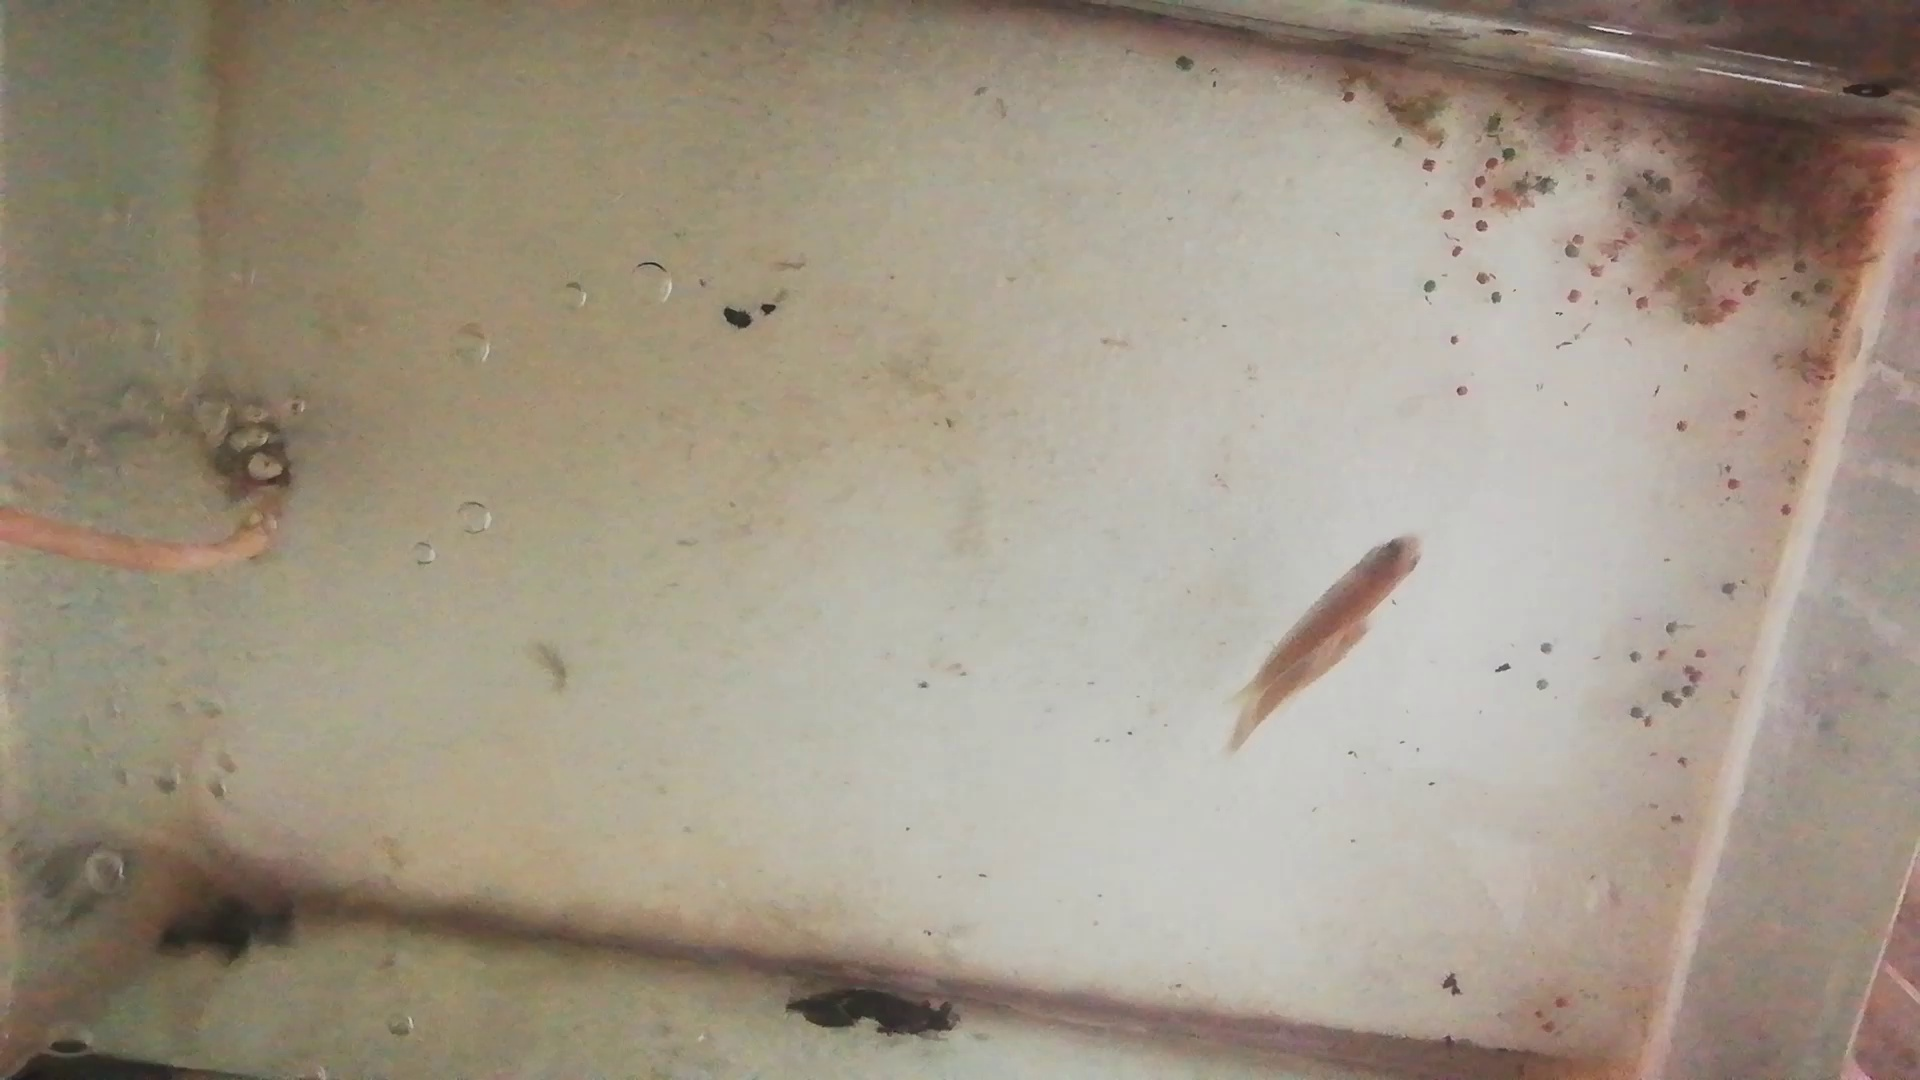fish: (1251, 534, 1427, 684), (1238, 618, 1371, 752)
